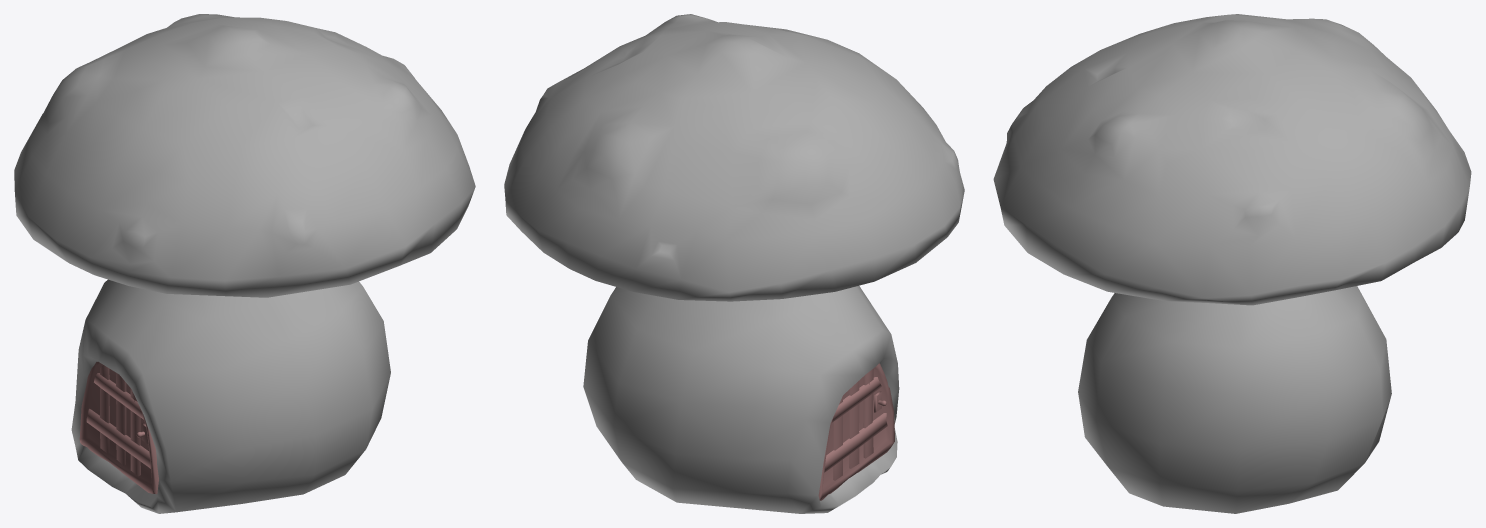
File: geo_MushHouse_01.fbx
3 renders of one model, left to right at view 1: azimuth 30°, elevation 25°; view 2: azimuth 150°, elevation 25°; view 3: azimuth 270°, elevation 25°, orthographic. The views are drawn at different scales.
Visible parts, largest first — view 1: LowBase1_pasted__polySurface6, LowBase1_polySurface55; view 2: LowBase1_pasted__polySurface6, LowBase1_polySurface55; view 3: LowBase1_pasted__polySurface6.
Part boxes in pixels (x1,y1,x2,y2): LowBase1_pasted__polySurface6: (14, 14, 475, 513); LowBase1_polySurface55: (79, 361, 158, 494); LowBase1_pasted__polySurface6: (504, 14, 964, 513); LowBase1_polySurface55: (818, 363, 894, 500); LowBase1_pasted__polySurface6: (993, 14, 1471, 513).
Size of the model in its own units: 796 by 816 by 785.
